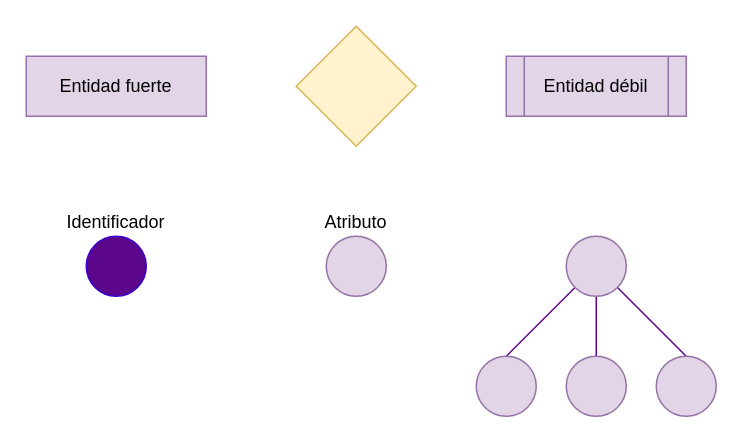
Some shapes in this 743 by 443 pixel diagram are drawn without their labels. The shapes that lost their labels are listed below. From the top down, each one's box as (x1, y1, x2, y2) in pixels, then its label:
(295, 25, 416, 146): relación
(565, 235, 626, 296): Atributo compuesto
